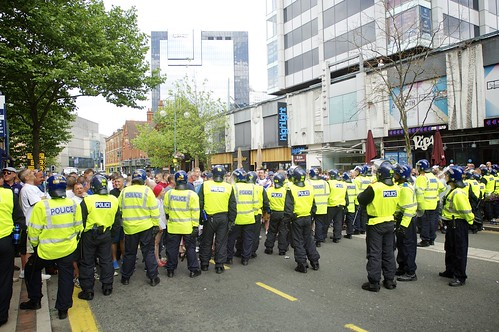building: (261, 1, 499, 157)
policeman: (24, 169, 83, 322), (80, 170, 121, 299), (122, 163, 163, 292), (363, 159, 403, 291), (437, 160, 477, 292), (163, 170, 200, 281), (198, 163, 235, 274), (286, 168, 323, 271), (225, 171, 261, 265), (258, 165, 294, 259)
tree: (1, 1, 140, 156), (345, 12, 455, 159)
